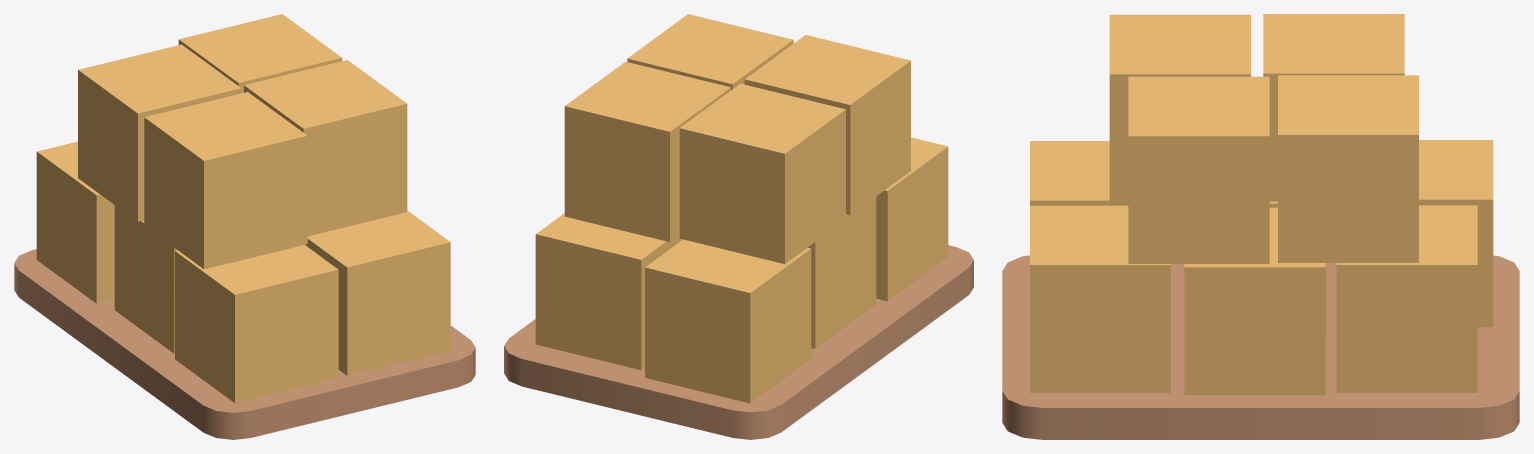
The model's file is boxes.fbx.
3 renders of one model, left to right at view 1: azimuth 30°, elevation 25°; view 2: azimuth 150°, elevation 25°; view 3: azimuth 270°, elevation 25°, orthographic. The views are drawn at different scales.
Parts seen in each view (by area): view 1: Cube.002; view 2: Cube.002; view 3: Cube.002.
Part boxes in pixels (bbox=[...]): Cube.002: bbox=[14, 14, 475, 439]; Cube.002: bbox=[504, 14, 973, 439]; Cube.002: bbox=[1002, 14, 1519, 439].
Bounding box in the file's own units: 3.1 × 2.7 × 4.4.
1 material, 1 textured.
